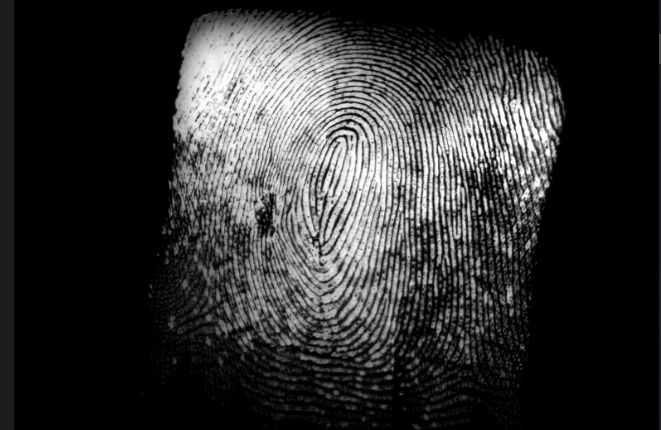deltas: (182, 267, 244, 333), (434, 334, 497, 391)
nucleo: (313, 120, 366, 175)
